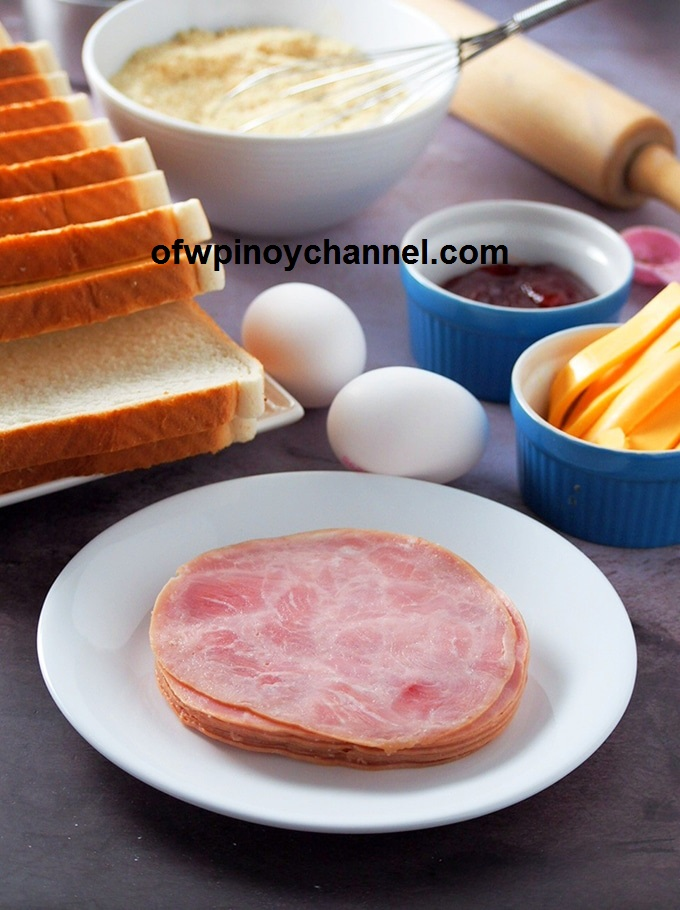cheese: (552, 281, 680, 439)
